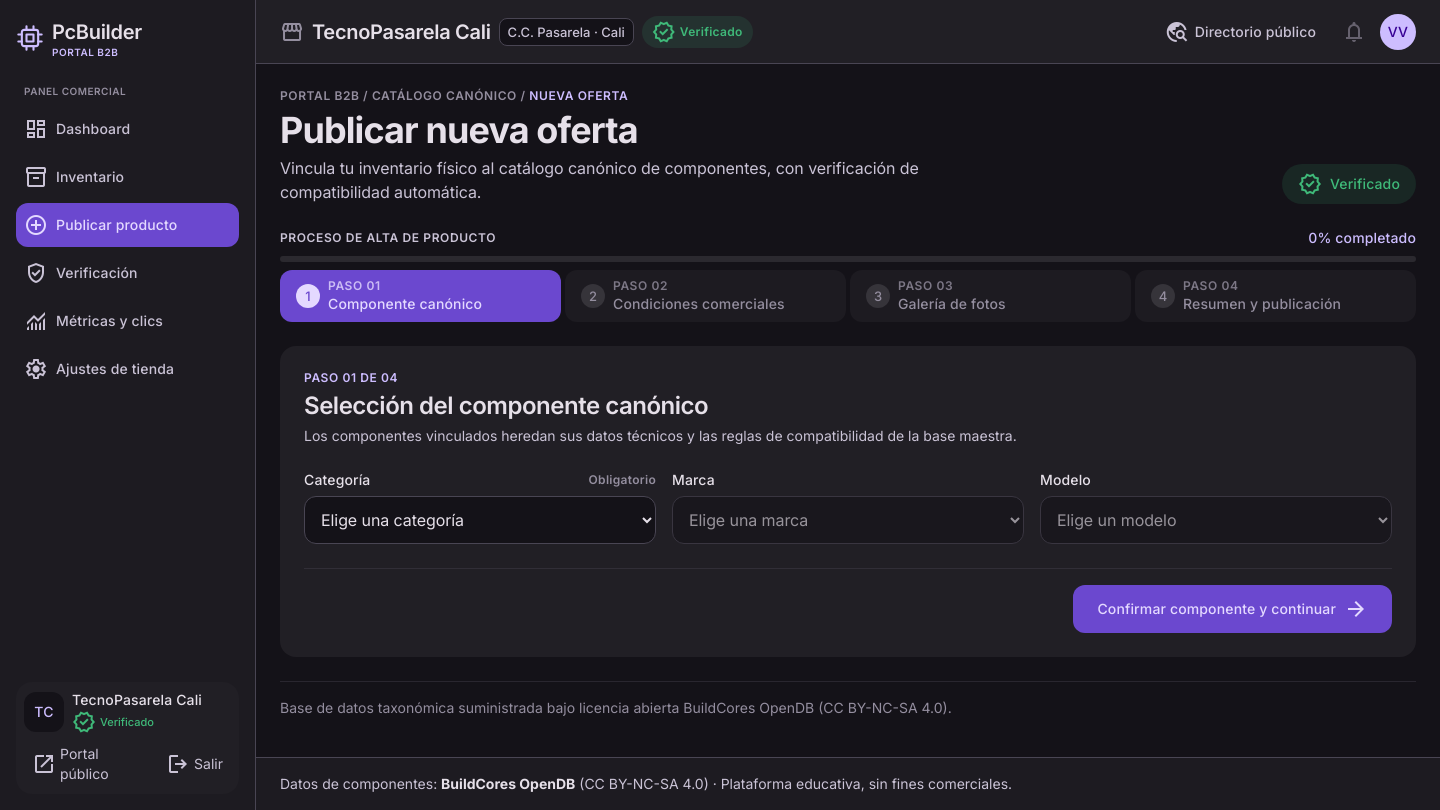
Test case: Publicar: paso 1, componente › con la categoría y sin marca pide la marca
Check: the heading "Publicar nueva oferta" is shown, box [280, 108, 638, 152]
Select "Procesadores" in the dropdown labelled "Categoría". click: {"x": 480, "y": 520}
box: [304, 496, 656, 544]
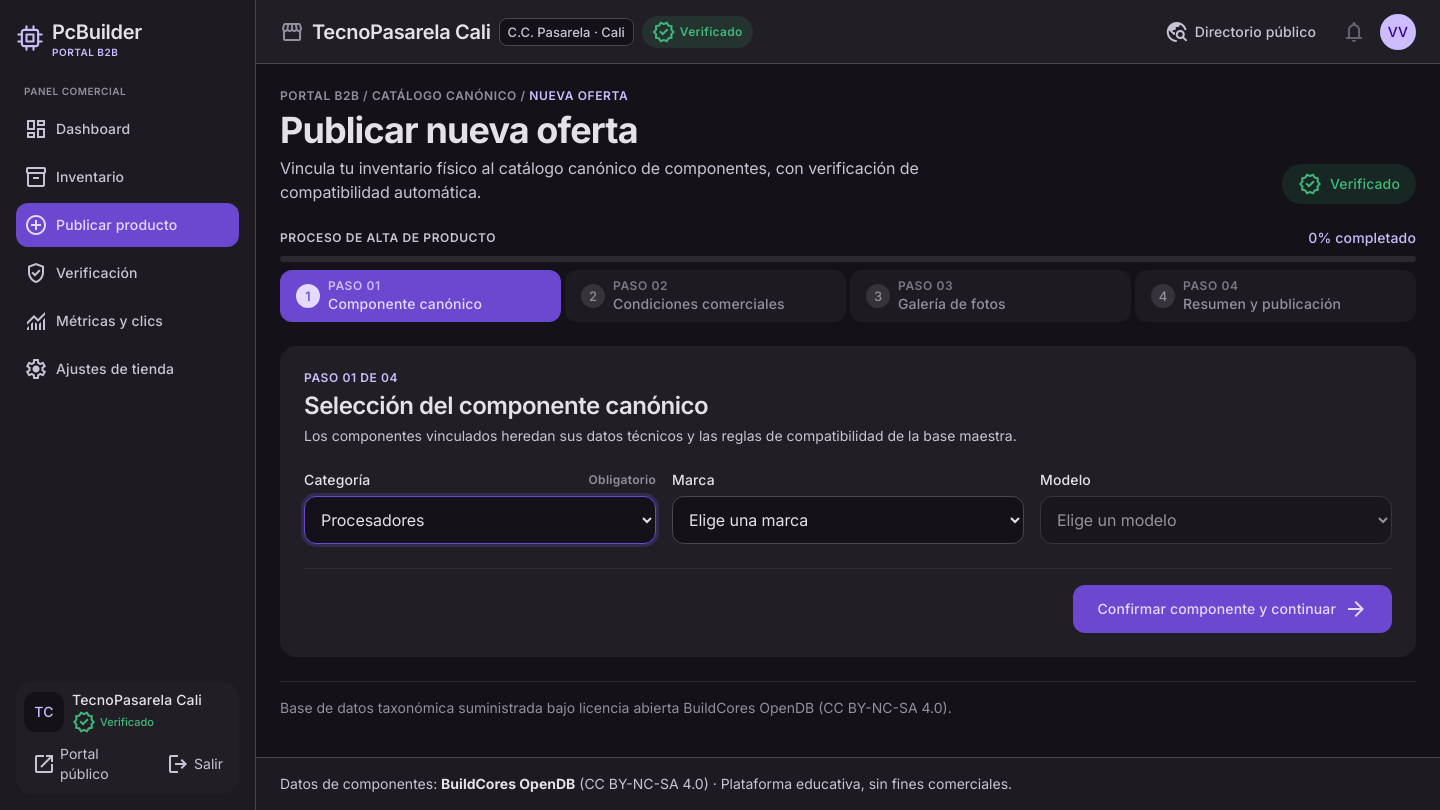
Click the button "Confirmar componente y continuar". click: {"x": 1233, "y": 609}
box: [1073, 585, 1392, 633]
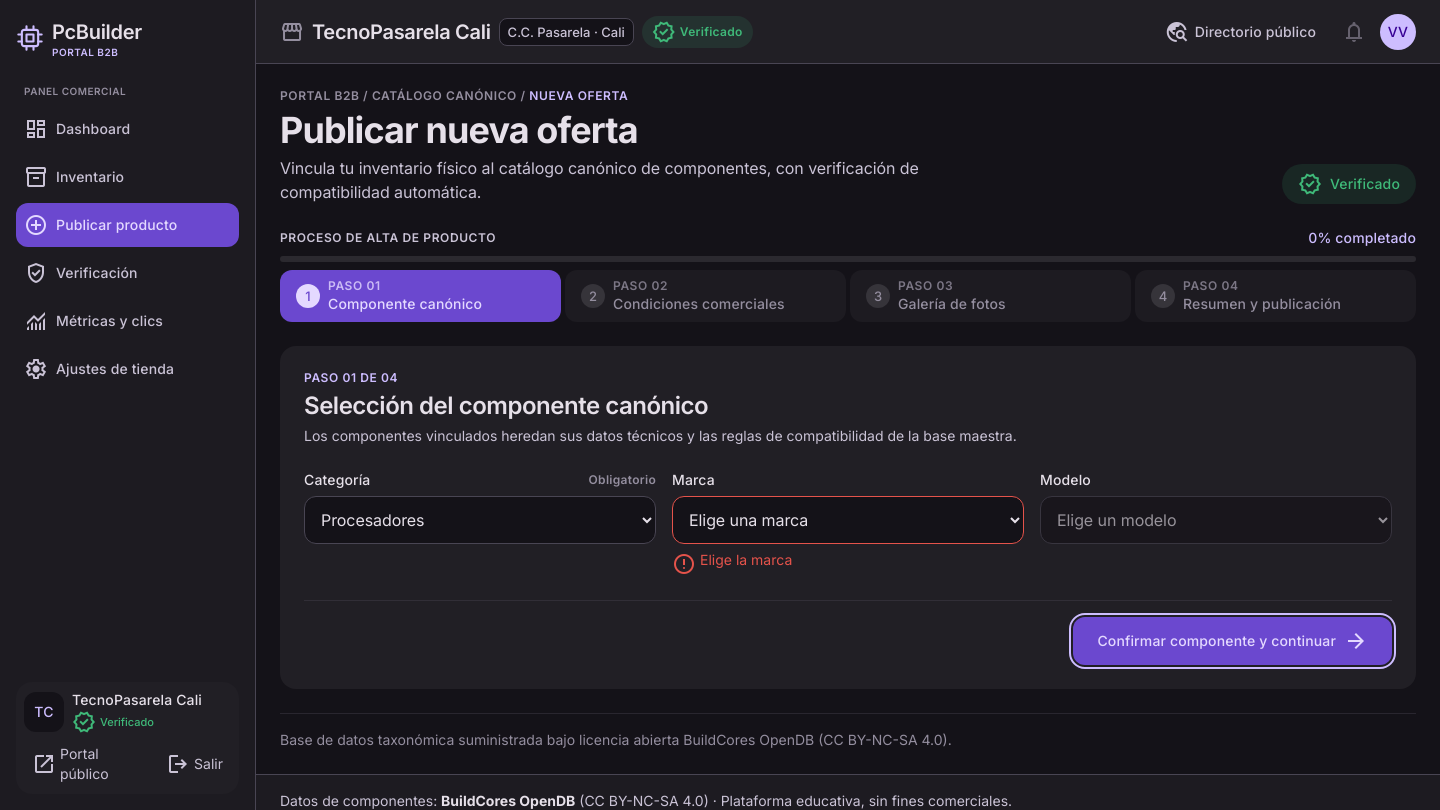
Check: the text "Elige la marca" is shown, box [700, 550, 792, 570]
